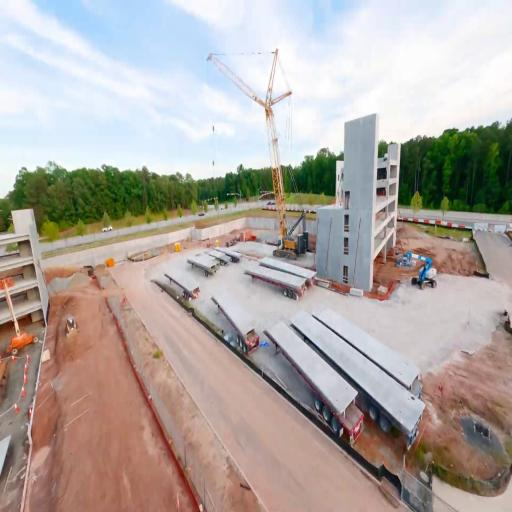uav: (260, 341, 269, 349)
